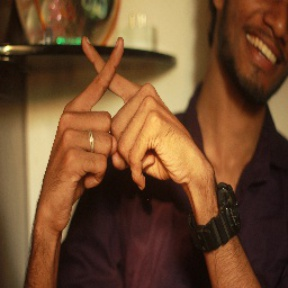X: (52, 28, 164, 135)
